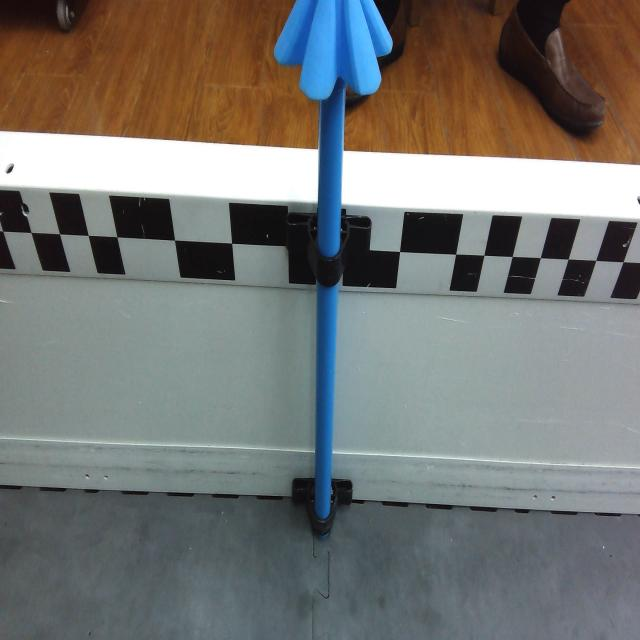zblue-Stake-Head: (272, 0, 394, 108)
